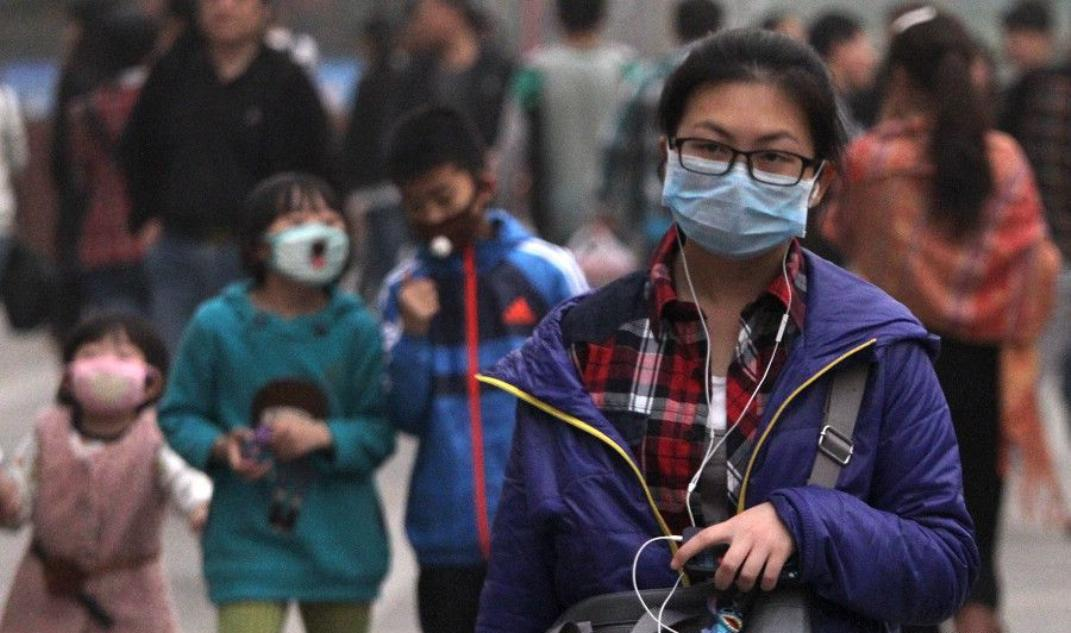OK: (675, 121, 820, 260), (64, 330, 152, 418), (274, 208, 352, 291)
WRONG: (410, 178, 484, 257)
